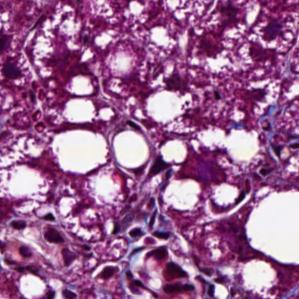inflammation: (0, 208, 84, 270), (182, 0, 257, 61), (230, 11, 299, 74), (146, 260, 202, 299), (123, 208, 175, 248)
